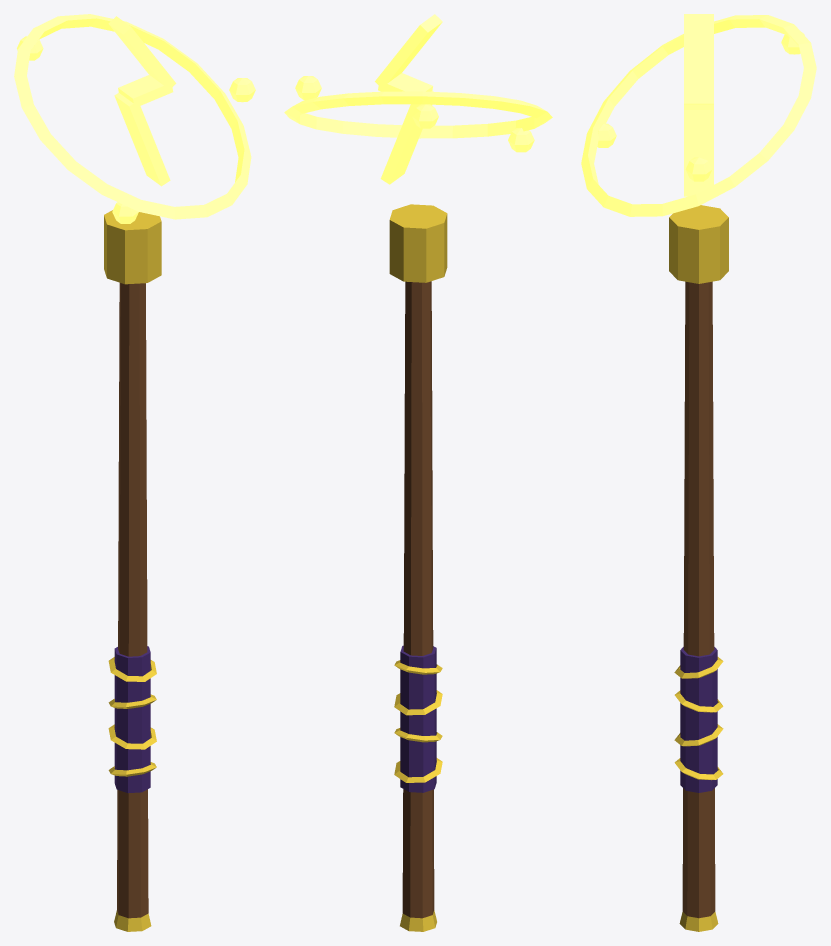
The model's file is weapon_staff_storm_v01.glb.
3 views of the same model, side by side, from view 1: azimuth 30°, elevation 25°; view 2: azimuth 150°, elevation 25°; view 3: azimuth 270°, elevation 25° (orthographic).
Visible parts, largest first — view 1: weapon_staff_storm; view 2: weapon_staff_storm; view 3: weapon_staff_storm.
Boxes of the visible parts, x1,y1,x2,y2 form: weapon_staff_storm: (14,14,255,931); weapon_staff_storm: (284,14,552,931); weapon_staff_storm: (581,14,816,931).
Size of the model in its own units: 0.3575 by 1.34 by 0.3159.
